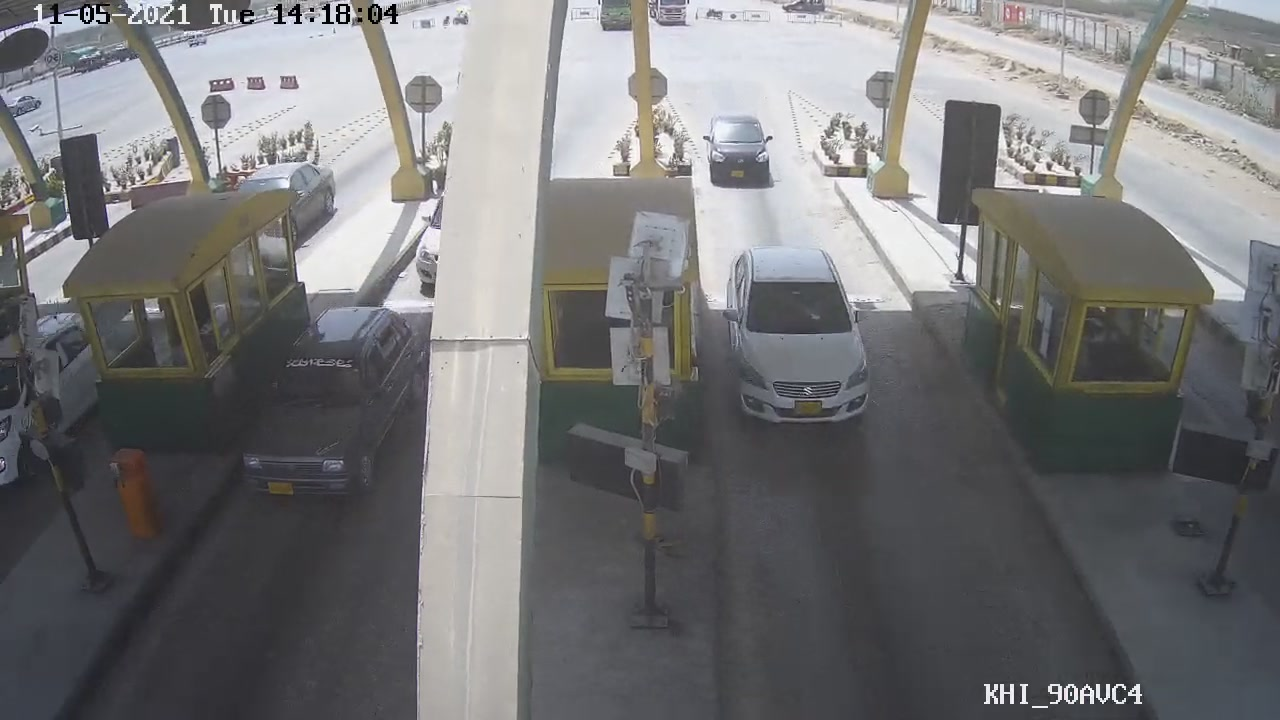F1: (720, 243, 880, 422)
